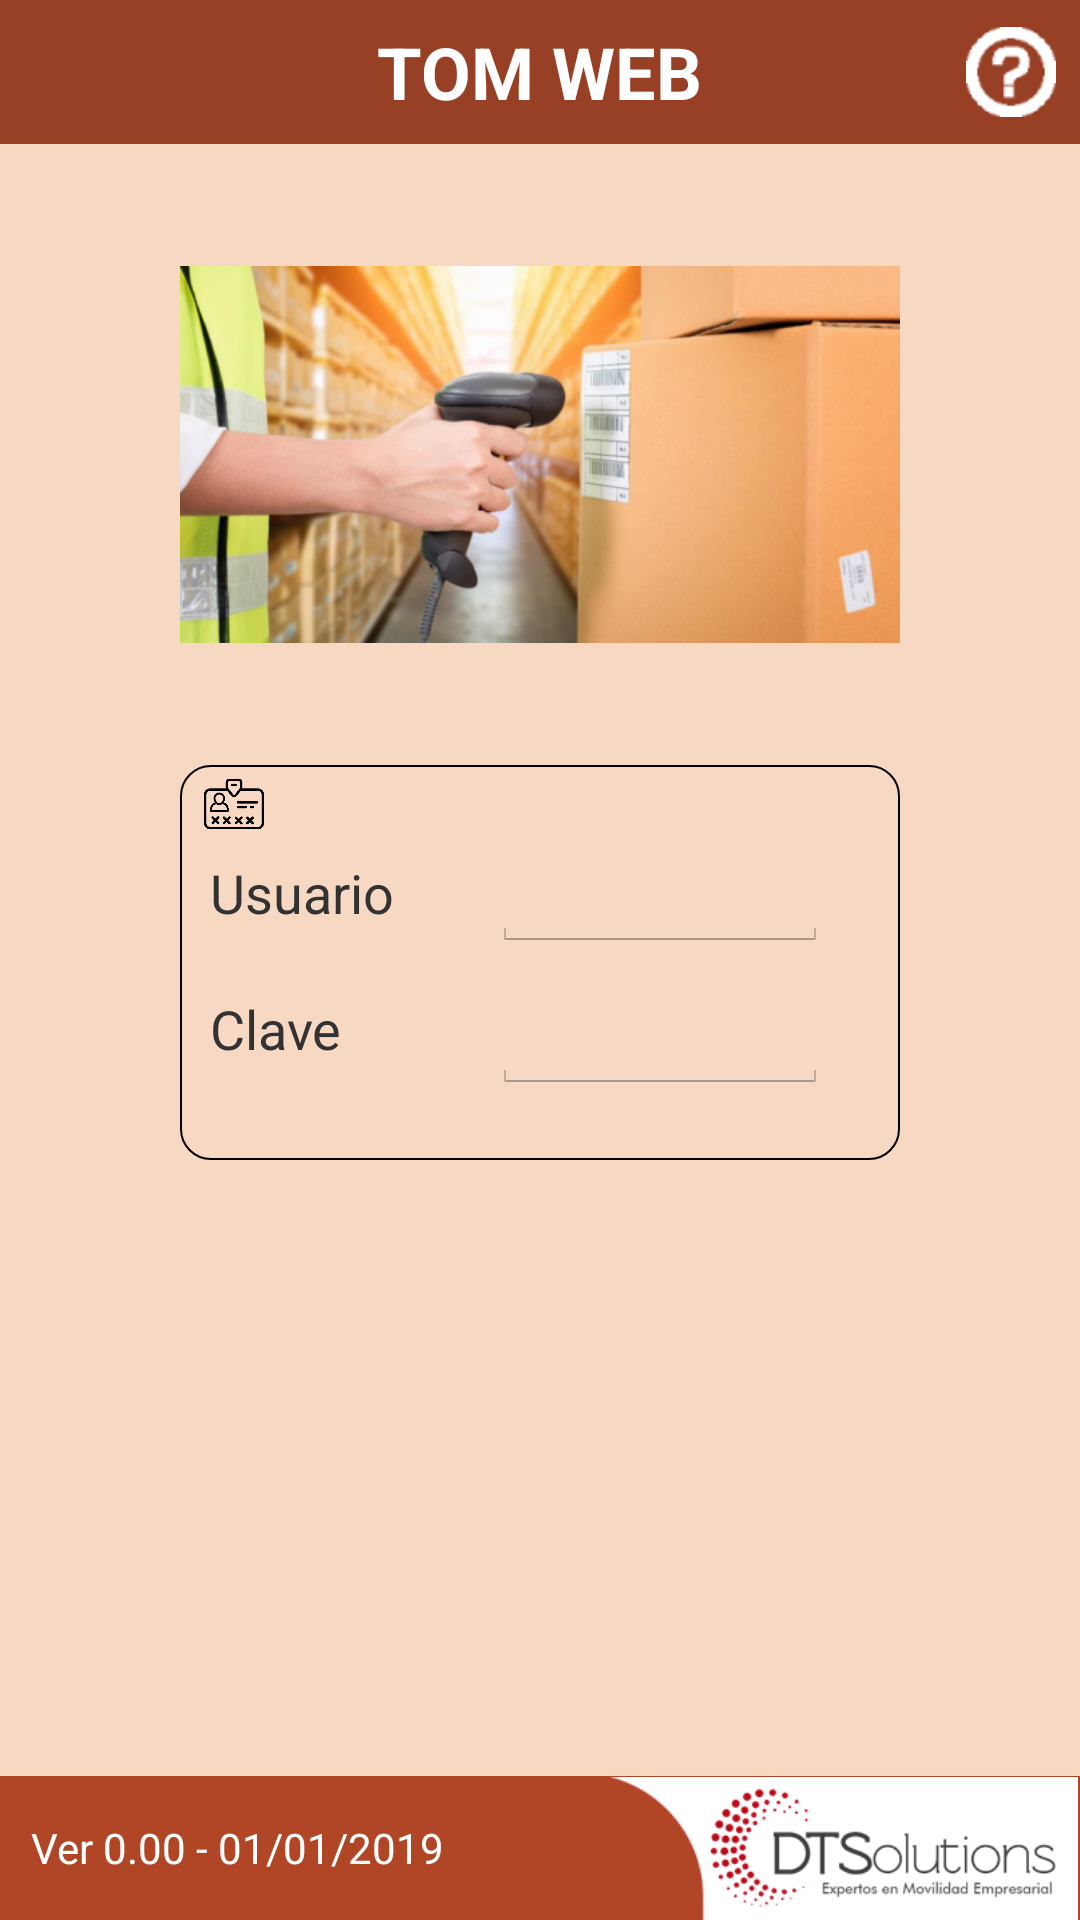

Screen size 1080 x 1920. Icon name, then its center in pixels as [x,y]:
help: [1011,72]
login: [234,804]
